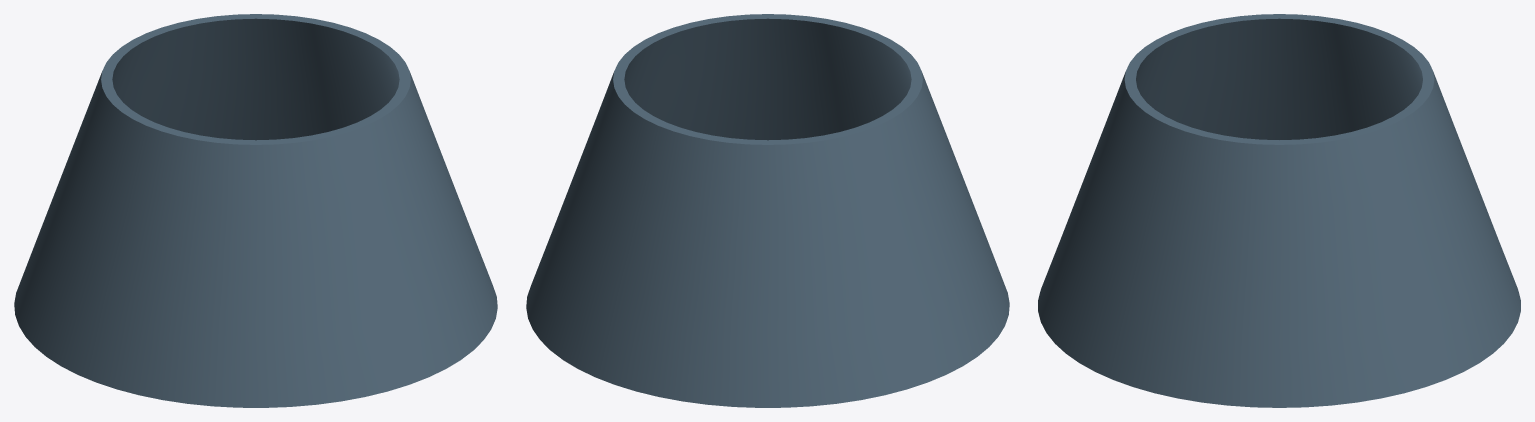
The model's file is perehod-426x12-273x10-L220.glb.
3 views of the same model, side by side, from view 1: azimuth 30°, elevation 25°; view 2: azimuth 150°, elevation 25°; view 3: azimuth 270°, elevation 25° (orthographic).
Visible parts, largest first — view 1: Open CASCADE STEP translator 7.9 70; view 2: Open CASCADE STEP translator 7.9 70; view 3: Open CASCADE STEP translator 7.9 70.
Part boxes in pixels (x1,y1,x2,y2): Open CASCADE STEP translator 7.9 70: (14,14,497,407); Open CASCADE STEP translator 7.9 70: (526,14,1009,407); Open CASCADE STEP translator 7.9 70: (1038,14,1520,407).
Bounding box in the file's own units: 426 × 220 × 425.
